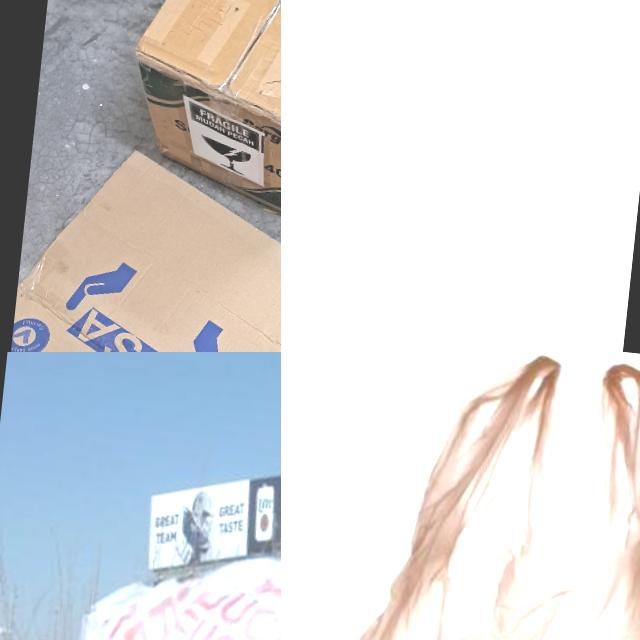papelão: (0, 137, 281, 352), (116, 0, 281, 236)
sacola plástica: (281, 352, 640, 640), (281, 0, 564, 322), (37, 492, 281, 640)
